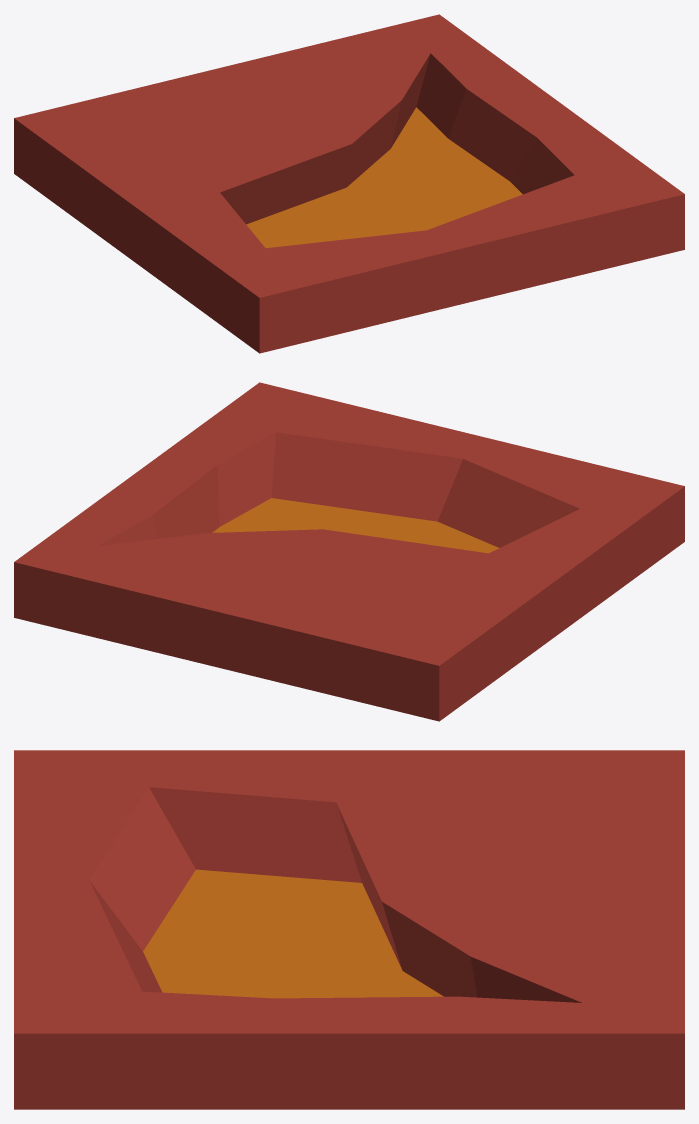
Rendered from Field_2_digged_v3.fbx.
3 renders of one model, top to bottom at view 1: azimuth 30°, elevation 25°; view 2: azimuth 150°, elevation 25°; view 3: azimuth 270°, elevation 25°, orthographic. The views are drawn at different scales.
Visible parts, largest first — view 1: Plane.029; view 2: Plane.029; view 3: Plane.029.
Boxes of the visible parts, box(x1,y1,x2,y2) form: Plane.029: box(14, 14, 684, 353); Plane.029: box(14, 382, 684, 721); Plane.029: box(14, 750, 684, 1109).
Size of the model in its own units: 400 by 50 by 400.
